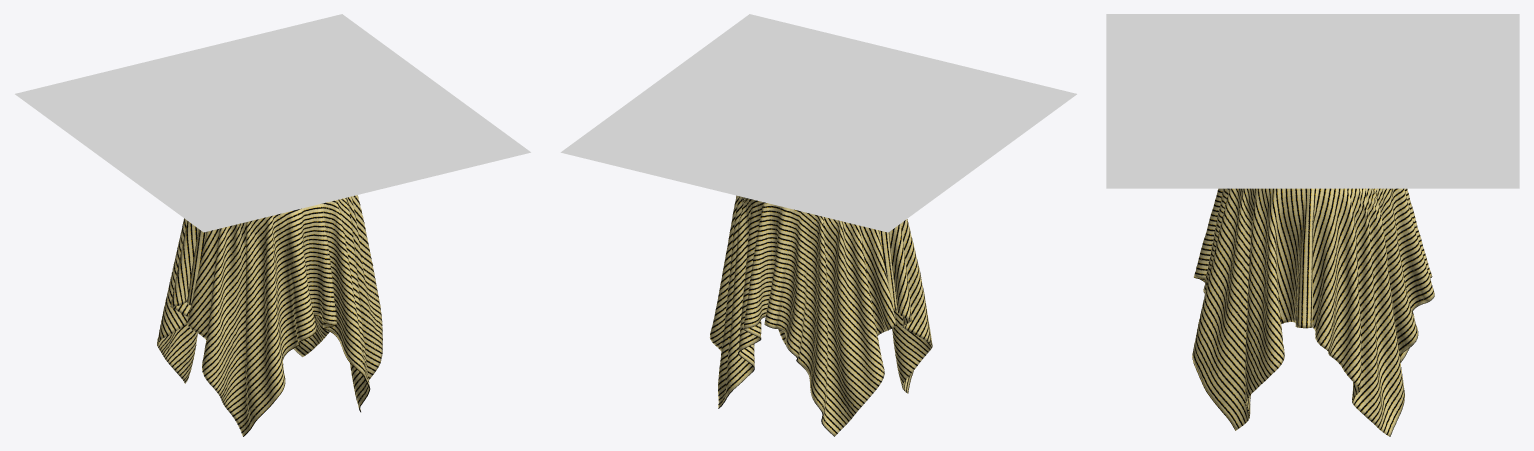
Rendered from ClothBallDenseDense.glb.
3 views of the same model, side by side, from view 1: azimuth 30°, elevation 25°; view 2: azimuth 150°, elevation 25°; view 3: azimuth 270°, elevation 25° (orthographic). The views are drawn at different scales.
Parts seen in each view (by area): view 1: Plane, Cloth; view 2: Plane, Cloth; view 3: Plane, Cloth.
Boxes of the visible parts, left/top/right/bottom form: Plane: left=15, top=14, right=530, bottom=232; Cloth: left=157, top=195, right=382, bottom=436; Plane: left=560, top=14, right=1076, bottom=232; Cloth: left=709, top=195, right=932, bottom=436; Plane: left=1106, top=14, right=1519, bottom=188; Cloth: left=1192, top=188, right=1434, bottom=436.
Bounding box in the file's own units: 5.04 × 4.08 × 5.04.
1 material, 1 textured.
